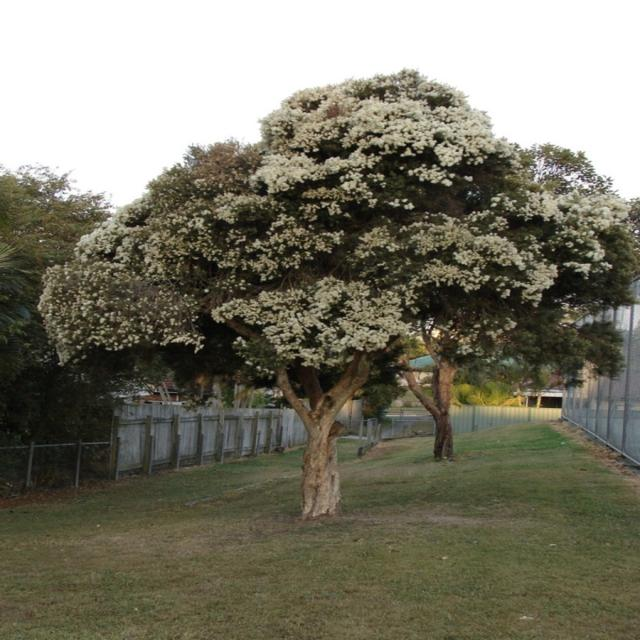foliage: (37, 74, 639, 517), (386, 308, 627, 465), (0, 165, 121, 441)
